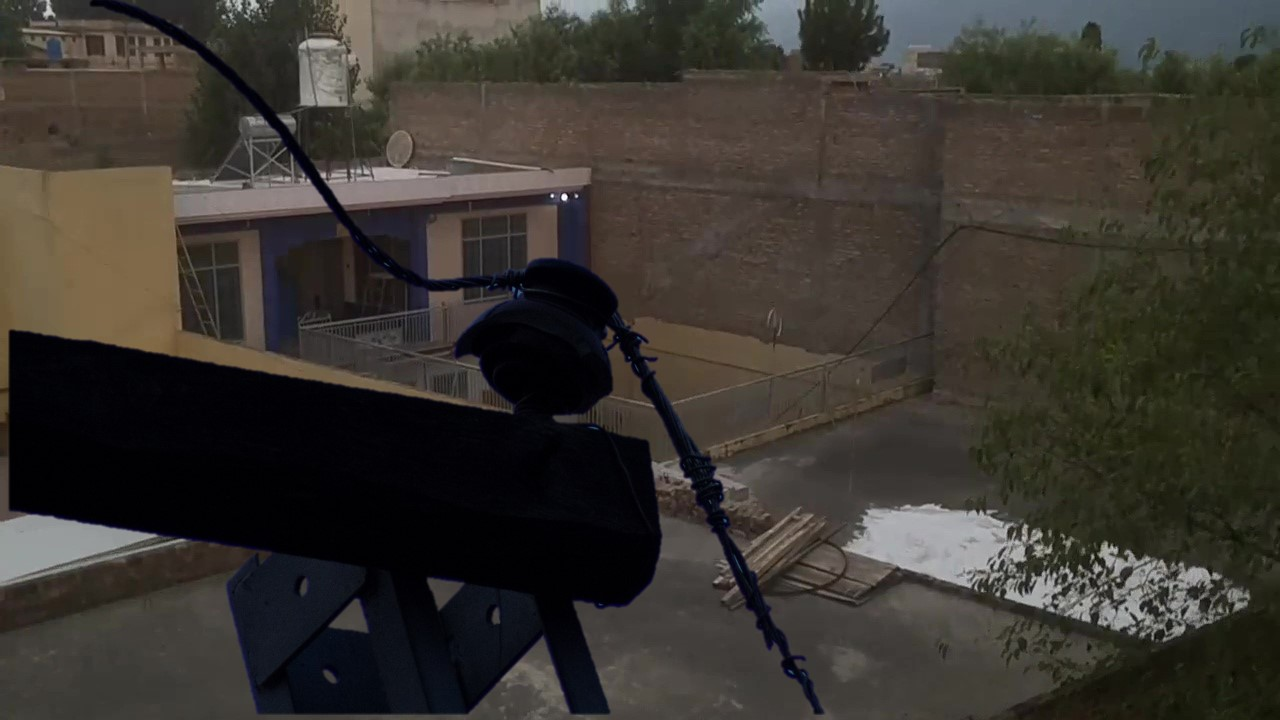defect_pin: (451, 256, 629, 413)
